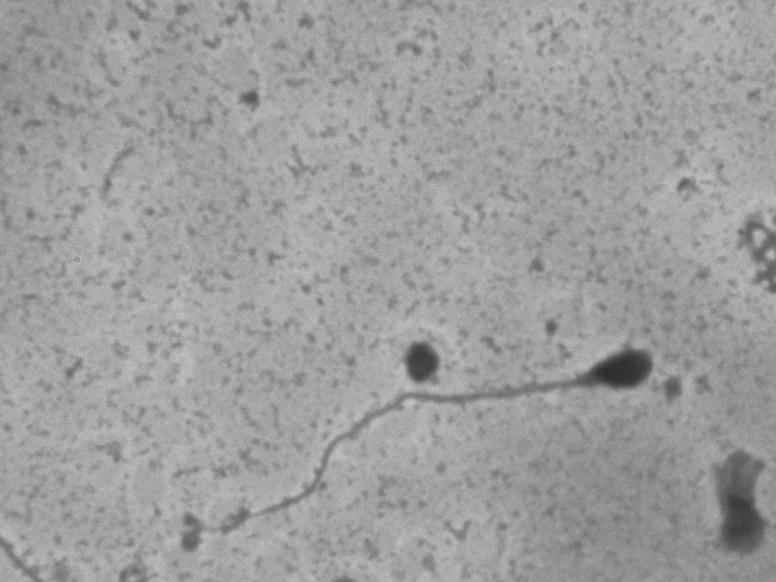Abnormal: (470, 316, 671, 462)
